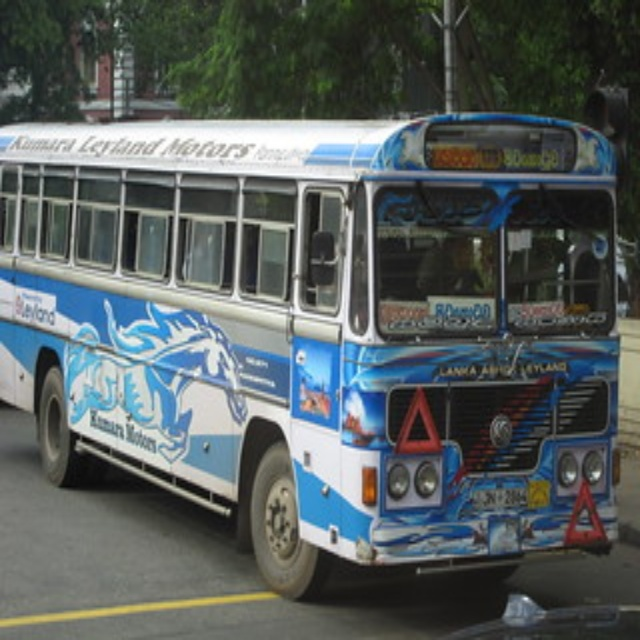Bus: (2, 115, 616, 600)
